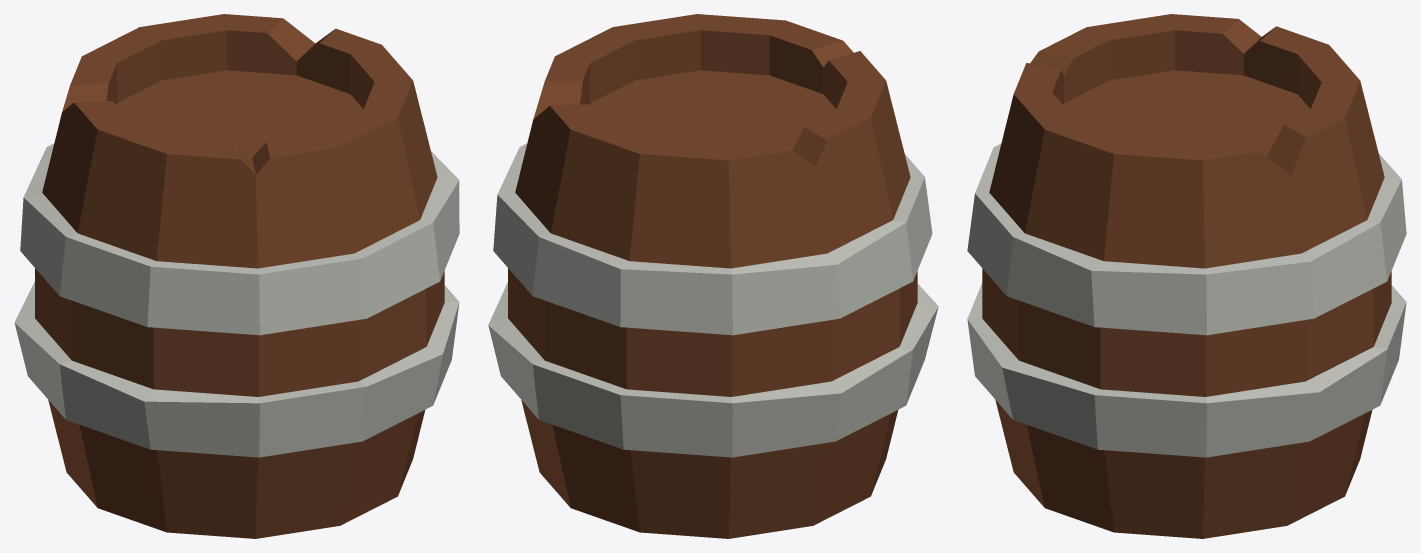
File: Barrel.fbx
3 views of the same model, side by side, from view 1: azimuth 30°, elevation 25°; view 2: azimuth 150°, elevation 25°; view 3: azimuth 270°, elevation 25° (orthographic).
Visible parts, largest first — view 1: Barrel.007; view 2: Barrel.007; view 3: Barrel.007.
Part boxes in pixels (x1,y1,x2,y2): Barrel.007: (14, 14, 459, 538); Barrel.007: (488, 14, 938, 538); Barrel.007: (967, 14, 1406, 538).
Size of the model in its own units: 126 by 120 by 126.
